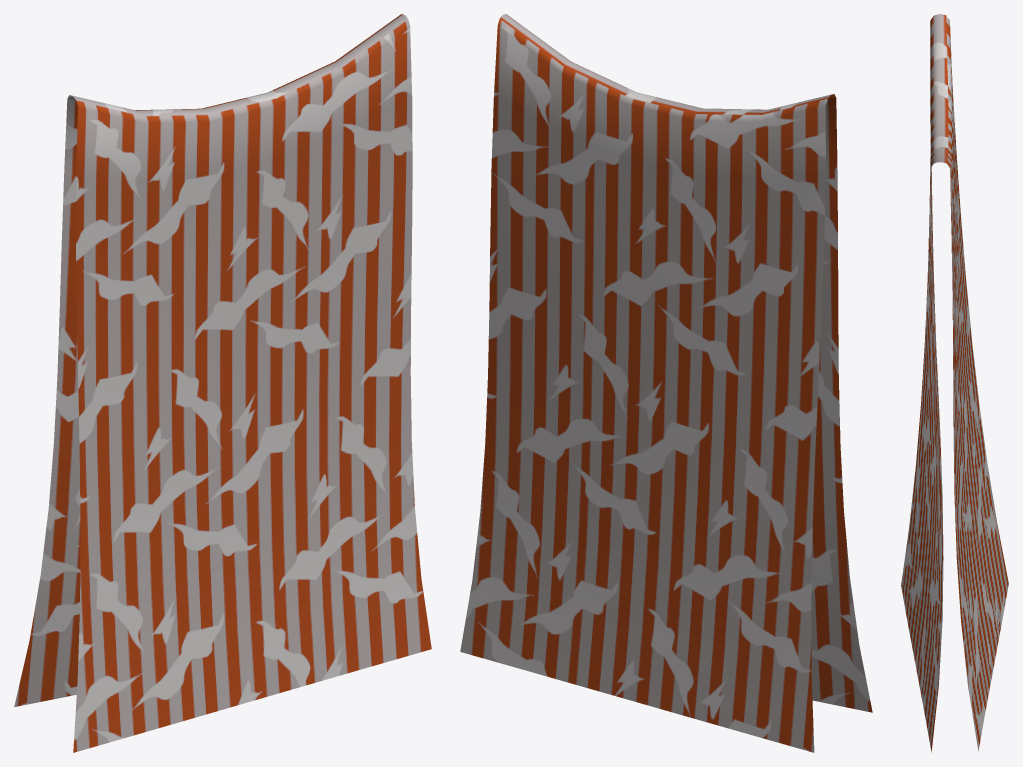
File: SM_flag_02.fbx
The picture shows the model from 3 angles, left to right: view 1: azimuth 30°, elevation 25°; view 2: azimuth 150°, elevation 25°; view 3: azimuth 270°, elevation 25°; orthographic projection. The views are drawn at different scales.
Parts seen in each view (by area): view 1: flag_02; view 2: flag_02; view 3: flag_02.
Part boxes in pixels (x1,y1,x2,y2): flag_02: (14,14,431,752); flag_02: (460,14,872,752); flag_02: (901,14,1008,752).
Bounding box in the file's own units: 165 × 267 × 44.99.
